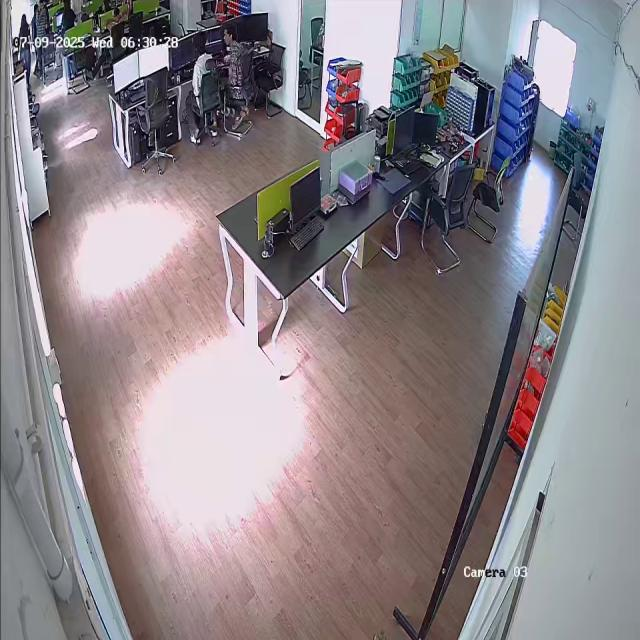person: (222, 22, 253, 118)
